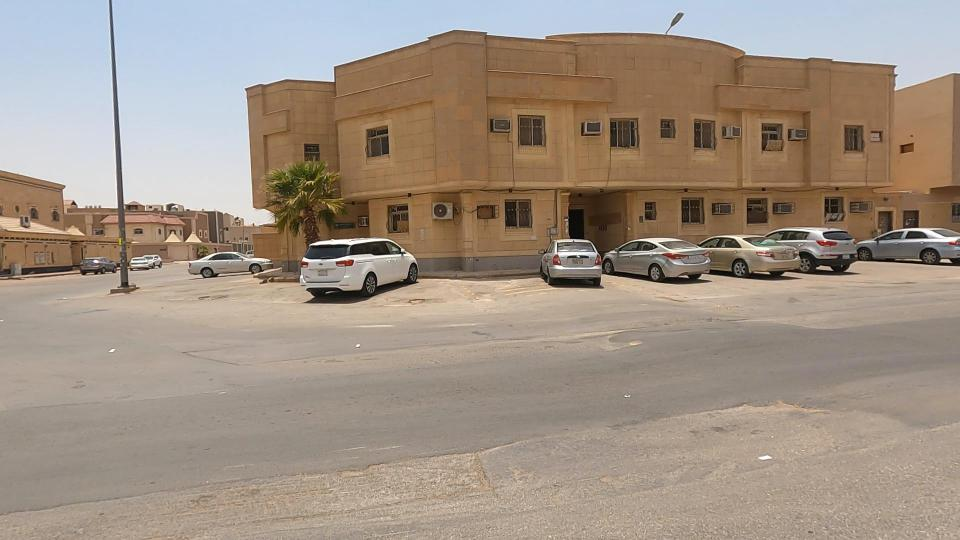POTHOLES: (580, 321, 901, 520), (251, 372, 606, 540), (537, 288, 685, 387)
